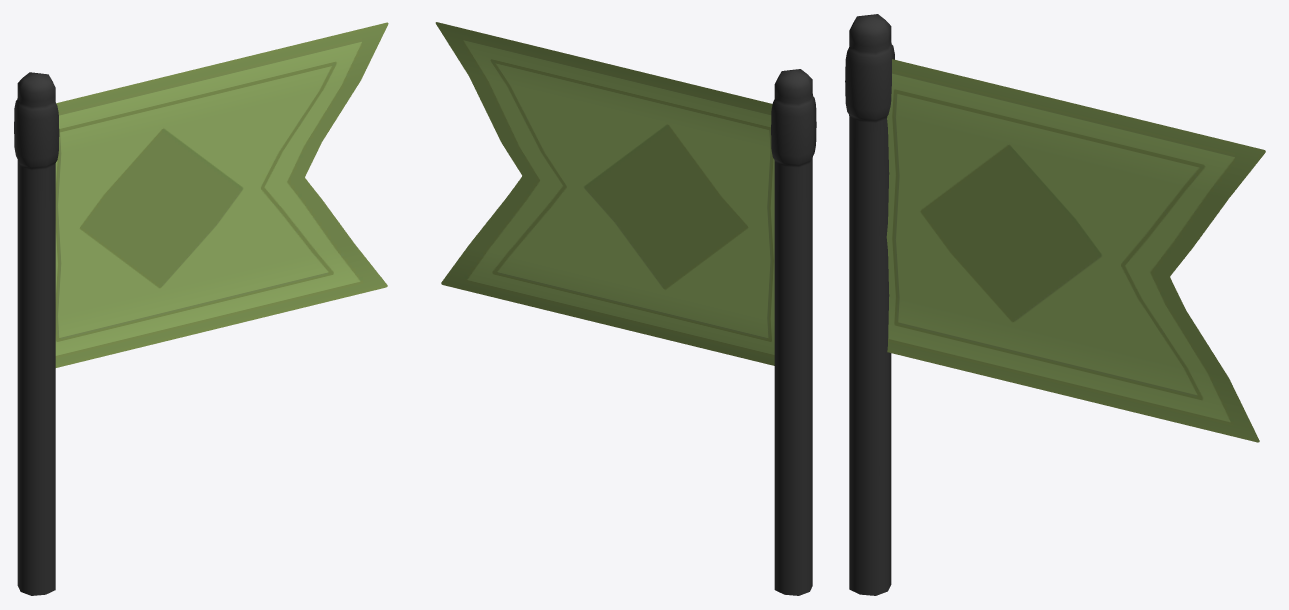
File: Flagpole.fbx
3 renders of one model, left to right at view 1: azimuth 30°, elevation 25°; view 2: azimuth 150°, elevation 25°; view 3: azimuth 330°, elevation 25°, orthographic. The views are drawn at different scales.
Parts seen in each view (by area): view 1: Flag, LampPole; view 2: Flag, LampPole; view 3: Flag, LampPole.
Part boxes in pixels (bbox=[...]): Flag: bbox=[55, 22, 388, 367]; LampPole: bbox=[14, 72, 59, 595]; Flag: bbox=[435, 22, 774, 365]; LampPole: bbox=[771, 69, 816, 595]; Flag: bbox=[886, 59, 1265, 442]; LampPole: bbox=[845, 14, 894, 595].
Bounding box in the file's own units: 2.52 × 3.24 × 0.253.
Materials: 2 (1 with a texture image).
